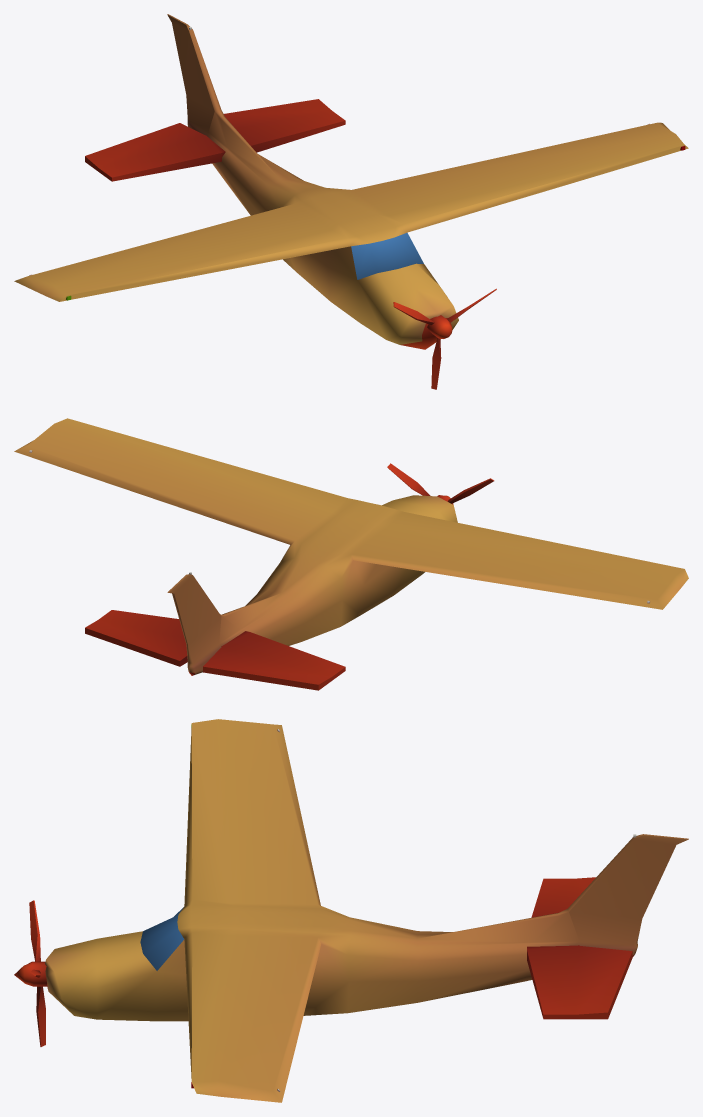
The picture shows the model from 3 angles, top to bottom: view 1: azimuth 30°, elevation 25°; view 2: azimuth 150°, elevation 25°; view 3: azimuth 270°, elevation 25°; orthographic projection. The views are drawn at different scales.
Visible parts, largest first — view 1: color.066; view 2: color.066; view 3: color.066.
Part boxes in pixels (x1,y1,x2,y2): color.066: [14, 14, 688, 389]; color.066: [14, 418, 688, 690]; color.066: [14, 719, 688, 1102].
Bounding box in the file's own units: 0.5 × 0.1322 × 0.3776.
